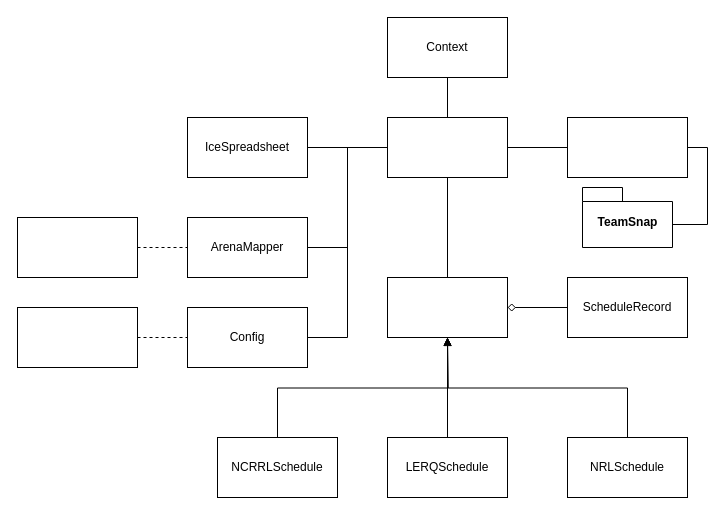
Image size: 726x515. Some labels were removed from this diagram. Here are the shapes that lost their labels. From the top down, the centre of each, then its label:
At [447,147]: "ScheduleMaker".
At [627,147]: "TeamSnap EventGenerator".
At [77,247]: "ArenaName Mapper.xml".
At [447,307]: "AbstractLeague Schedule".
At [77,337]: "TeamConfig.YYYY-YYYY.xml".
